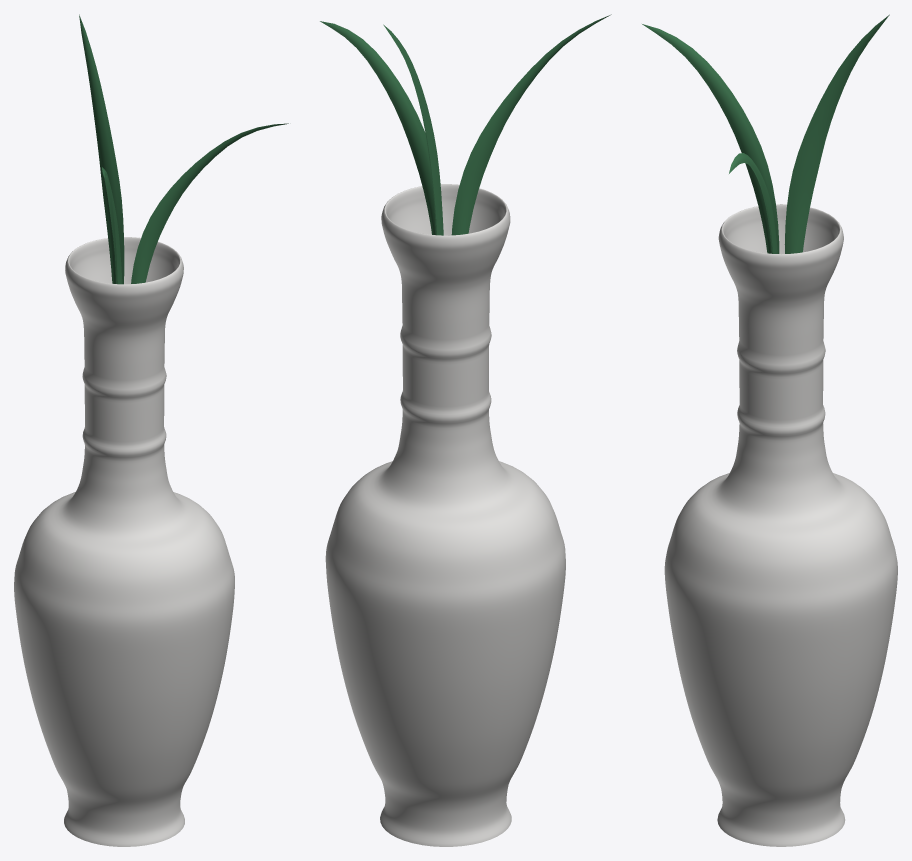
3 renders of one model, left to right at view 1: azimuth 30°, elevation 25°; view 2: azimuth 150°, elevation 25°; view 3: azimuth 270°, elevation 25°, orthographic. The views are drawn at different scales.
Visible parts, largest first — view 1: 仙瓶; view 2: 仙瓶; view 3: 仙瓶.
Part boxes in pixels (x1,y1,x2,y2): 仙瓶: (14,14,288,846); 仙瓶: (320,14,611,846); 仙瓶: (642,14,897,846).
Size of the model in its own units: 0.1327 by 0.4104 by 0.1181.
